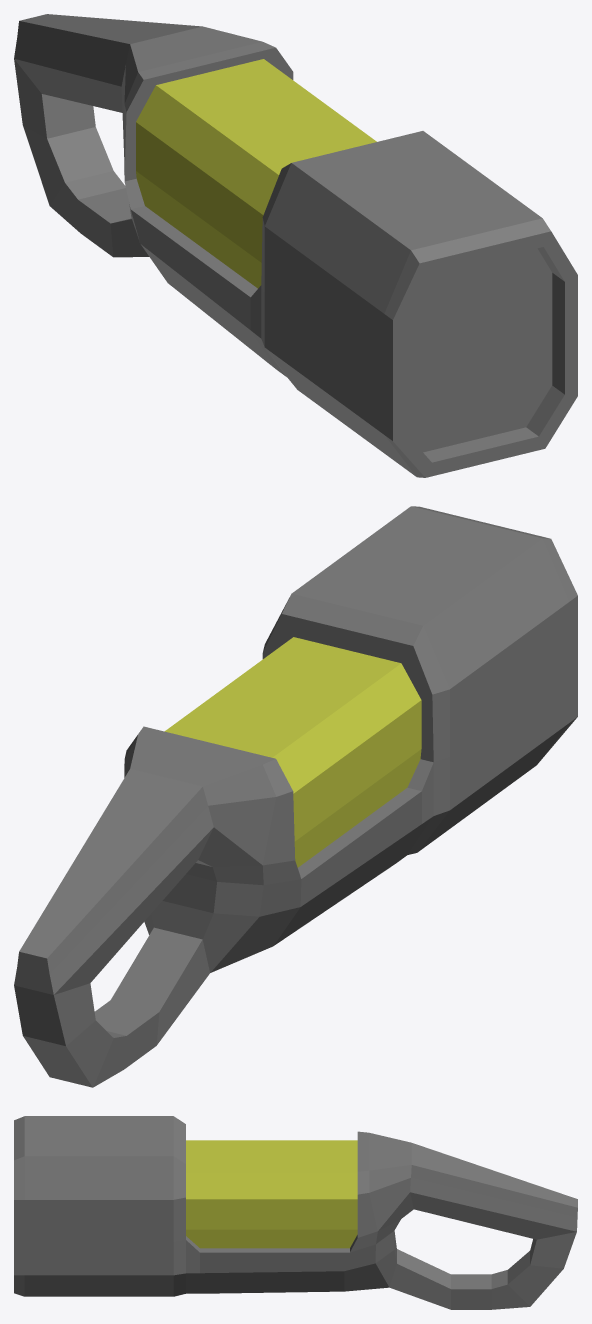
File: FPSPacMan - Stungun.fbx
3 views of the same model, one above another, from view 1: azimuth 30°, elevation 25°; view 2: azimuth 150°, elevation 25°; view 3: azimuth 270°, elevation 25° (orthographic). The views are drawn at different scales.
Parts seen in each view (by area): view 1: Cube, Cube.001; view 2: Cube, Cube.001; view 3: Cube, Cube.001.
Part boxes in pixels (x1,y1,x2,y2): Cube: (14, 14, 577, 477); Cube.001: (136, 59, 376, 288); Cube: (14, 506, 577, 1087); Cube.001: (164, 637, 421, 867); Cube: (14, 1116, 577, 1309); Cube.001: (186, 1140, 357, 1248).
Size of the model in its own units: 118 by 163 by 499.
